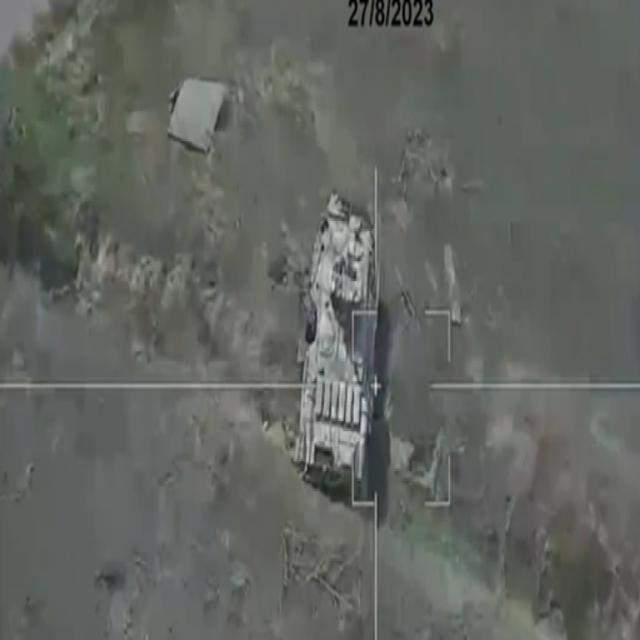APC-IFV: (289, 184, 376, 500)
